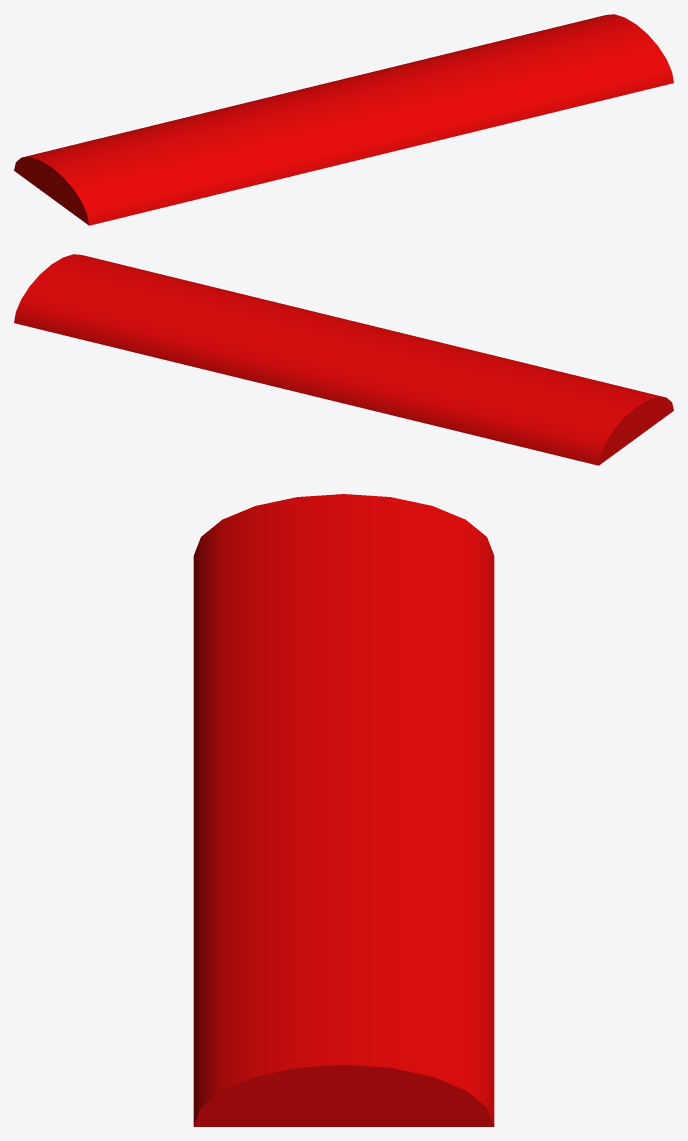
File: Ramp.fbx
The picture shows the model from 3 angles, top to bottom: view 1: azimuth 30°, elevation 25°; view 2: azimuth 150°, elevation 25°; view 3: azimuth 270°, elevation 25°; orthographic projection. The views are drawn at different scales.
Parts seen in each view (by area): view 1: Ramp; view 2: Ramp; view 3: Ramp.
Part boxes in pixels (<box>): Ramp: <box>14,14,673,225</box>; Ramp: <box>14,254,673,465</box>; Ramp: <box>193,494,494,1126</box>.
Bounding box in the file's own units: 3.47 × 0.1763 × 0.7723.
